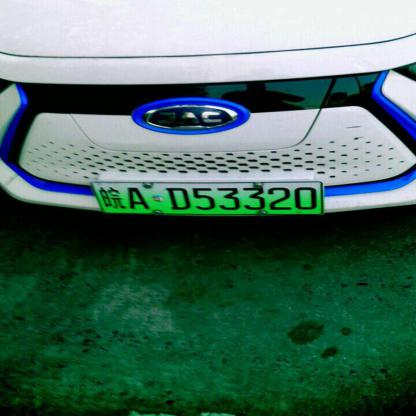lp: (92, 181, 322, 214)
